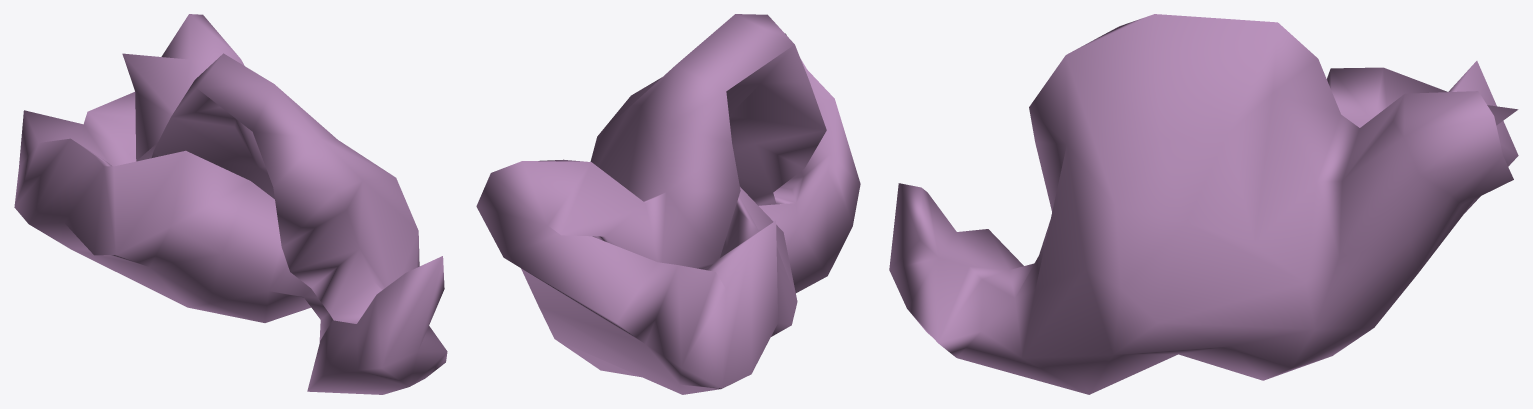
The picture shows the model from 3 angles, left to right: view 1: azimuth 30°, elevation 25°; view 2: azimuth 150°, elevation 25°; view 3: azimuth 270°, elevation 25°; orthographic projection. The views are drawn at different scales.
Parts seen in each view (by area): view 1: 右侧枕前沟; view 2: 右侧枕前沟; view 3: 右侧枕前沟.
Part boxes in pixels (<box>): 右侧枕前沟: <box>14,14,447,394</box>; 右侧枕前沟: <box>476,14,860,394</box>; 右侧枕前沟: <box>889,14,1518,394</box>.
Bounding box in the file's own units: 0.0208 × 0.0219 × 0.036.
